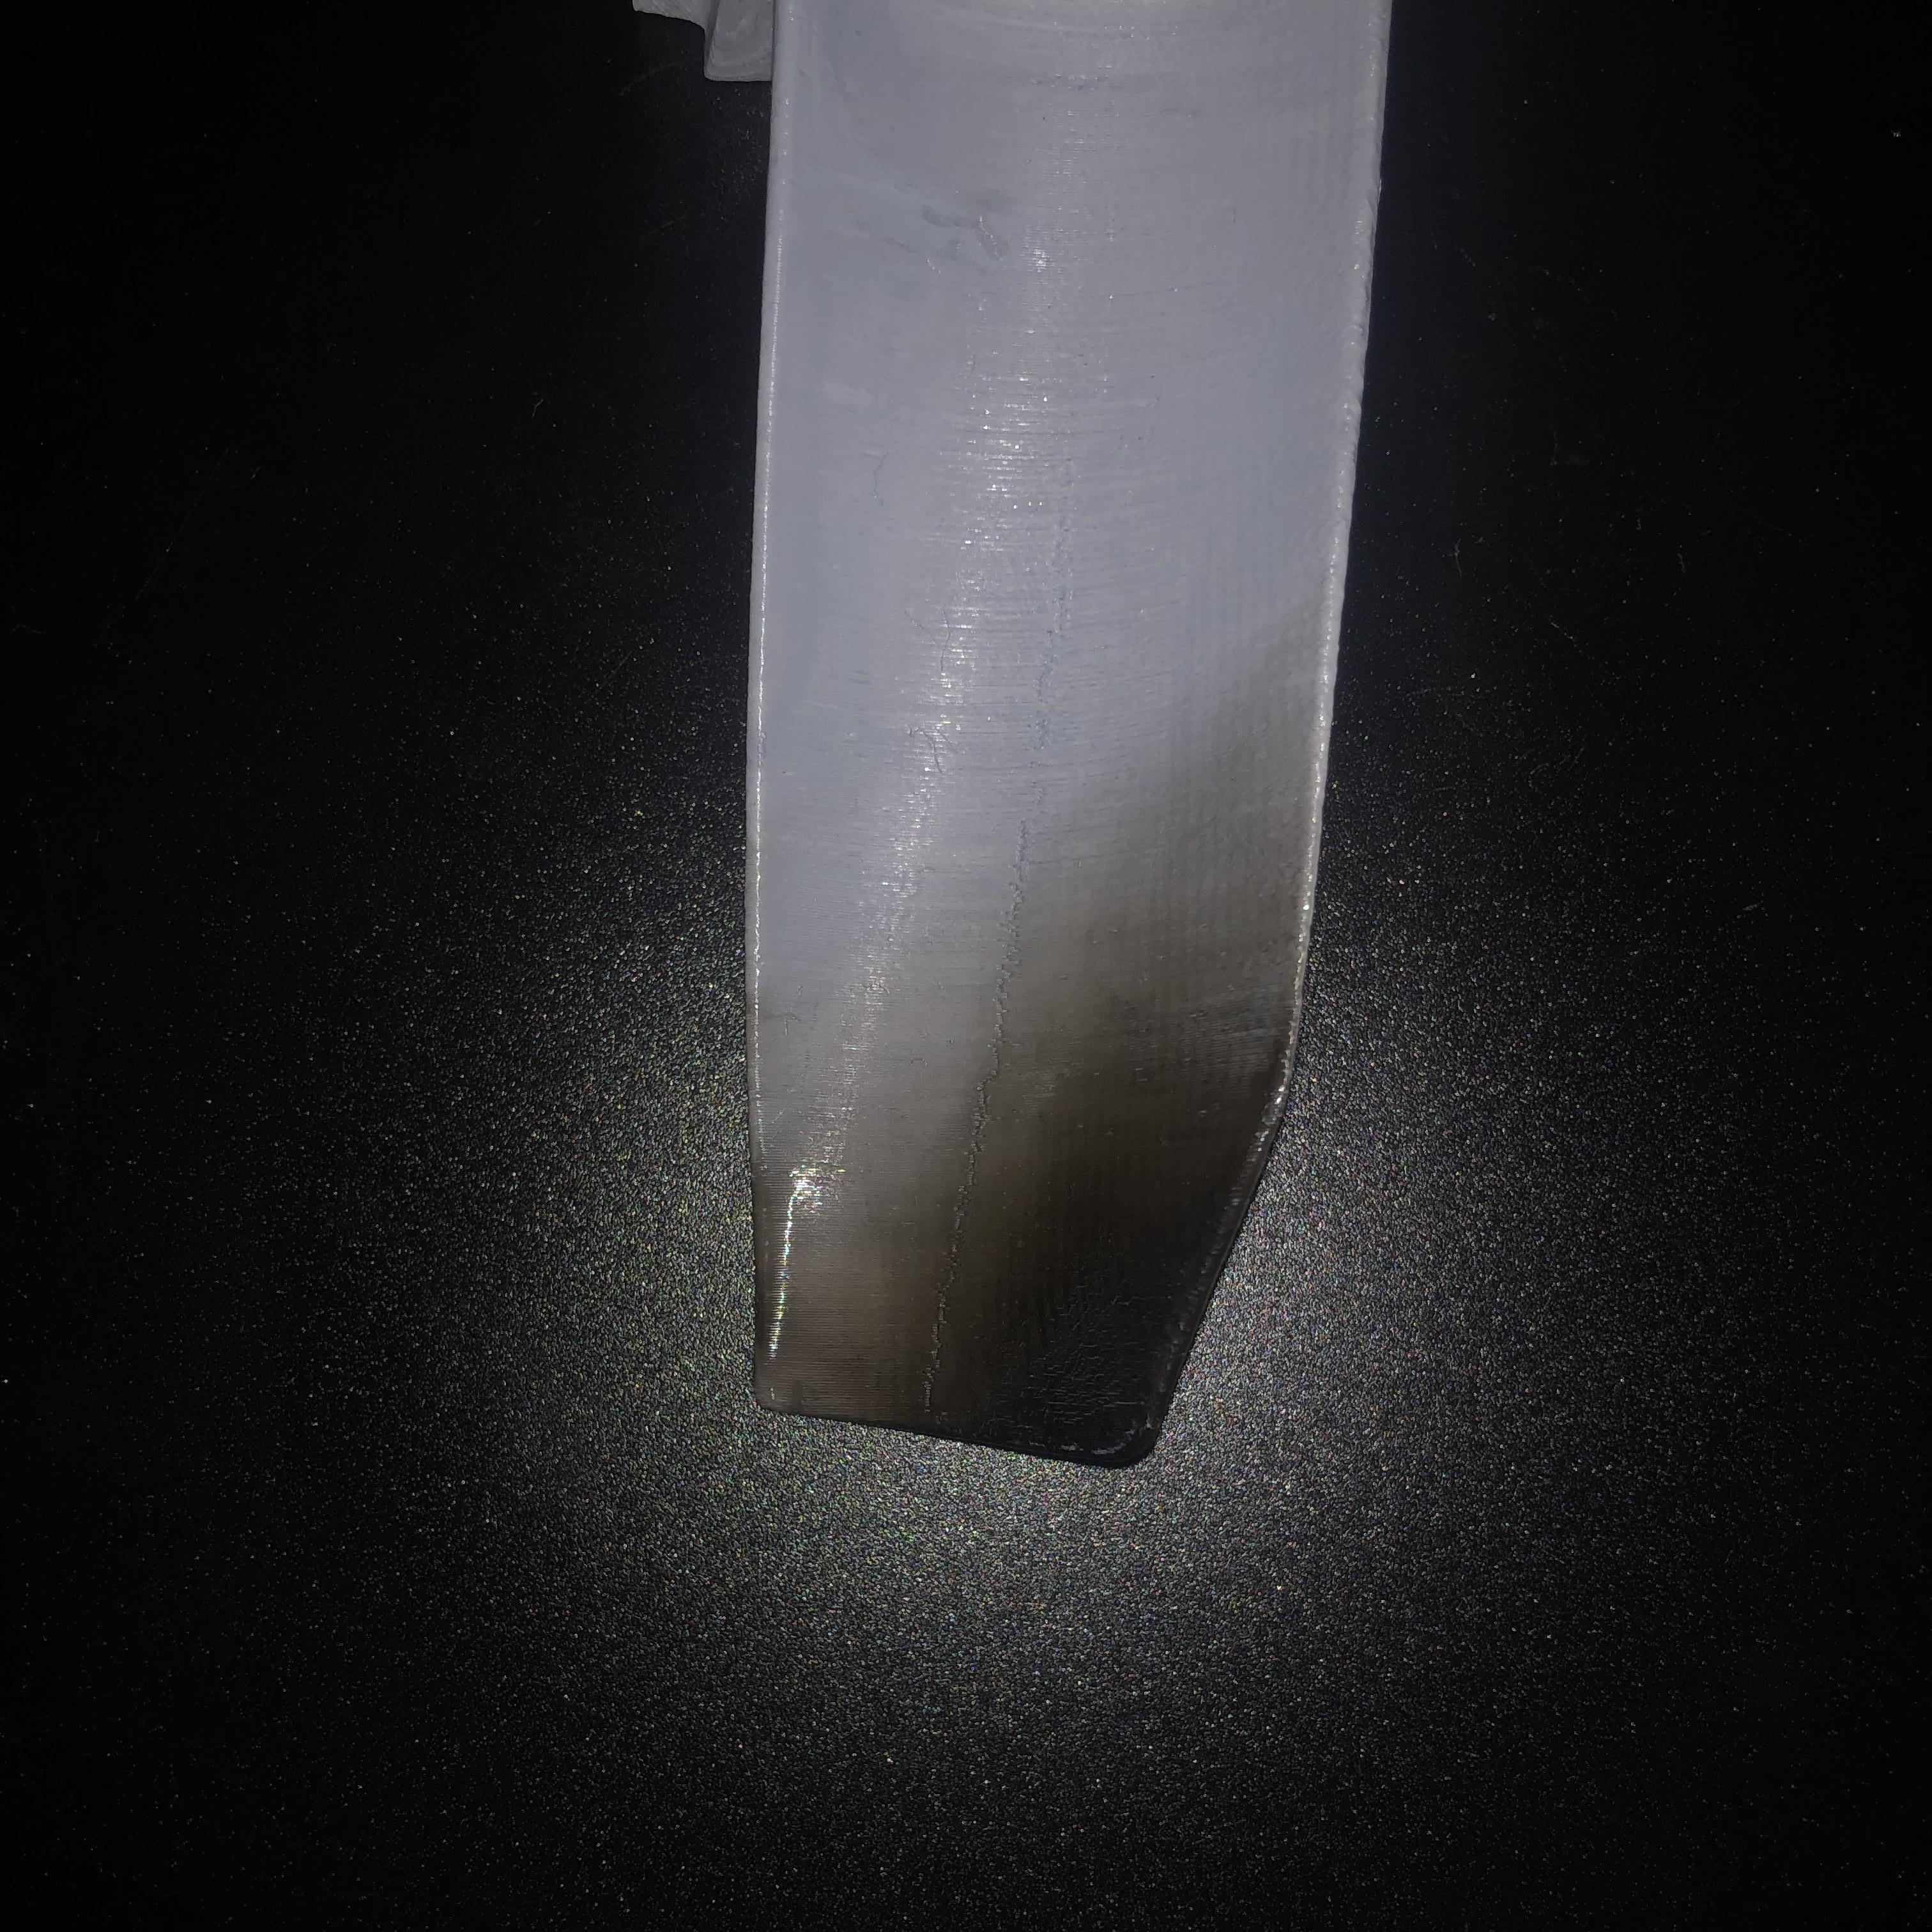ablation: (777, 1127, 1185, 1422)
